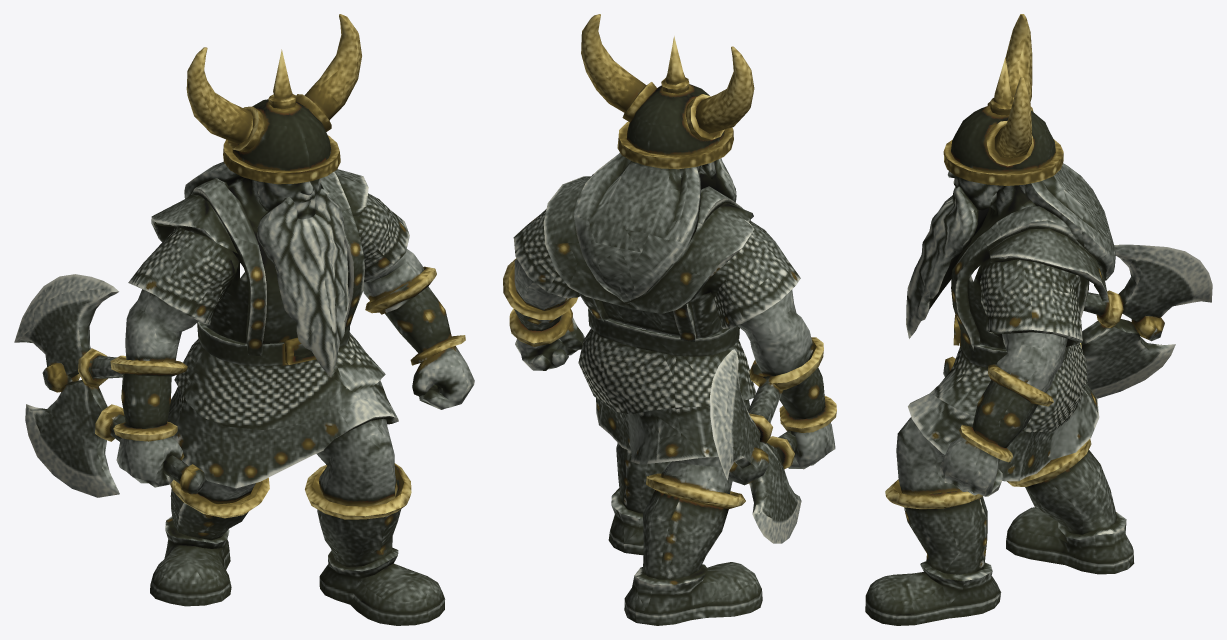
Rendered from mm7_deco_7dec54.glb.
3 views of the same model, side by side, from view 1: azimuth 30°, elevation 25°; view 2: azimuth 150°, elevation 25°; view 3: azimuth 270°, elevation 25° (orthographic). The views are drawn at different scales.
Parts seen in each view (by area): view 1: Statue; view 2: Statue; view 3: Statue.
Boxes of the visible parts, x1,y1,x2,y2 form: Statue: [14, 14, 474, 625]; Statue: [503, 14, 836, 625]; Statue: [865, 14, 1212, 625].
Size of the model in its own units: 0.6558 by 1 by 0.5934.
1 material, 1 textured.
